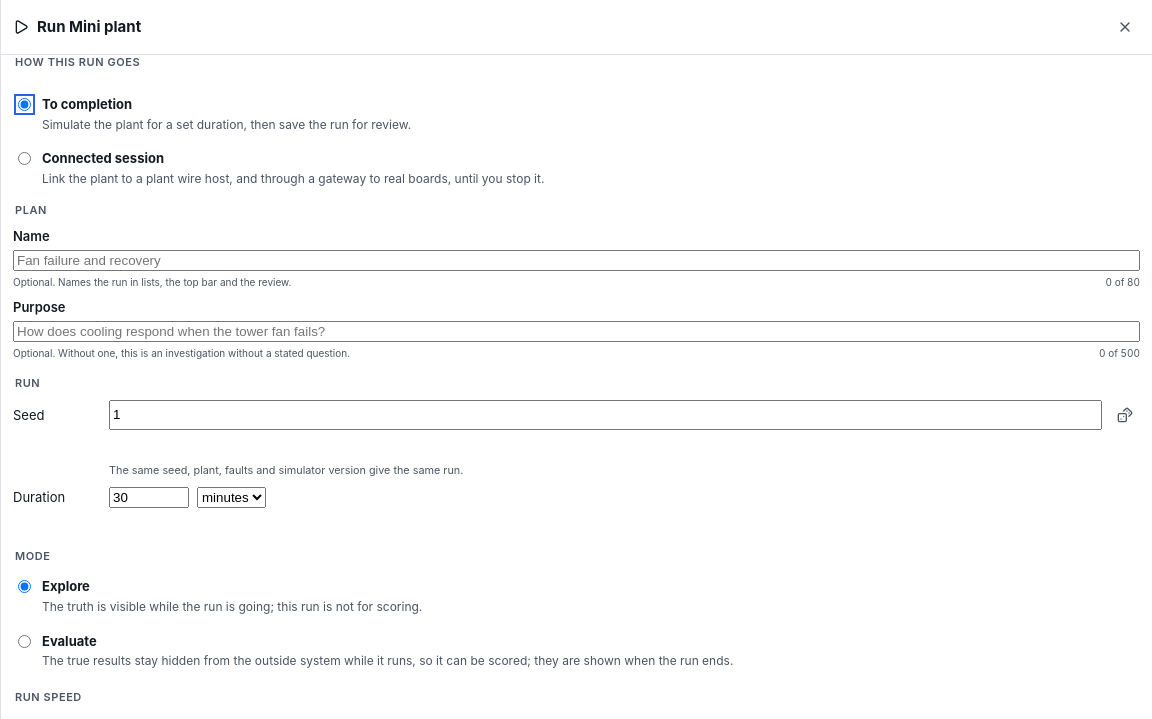
Test: a running connected session in the run panel › picks up a session that is already running when the panel opens after a reload, with its plan
The width and height of the screenshot is (1152, 719).
Step 1. Click the radio button labelled "Connected session" → (24, 159), box 18,152 -> 31,165
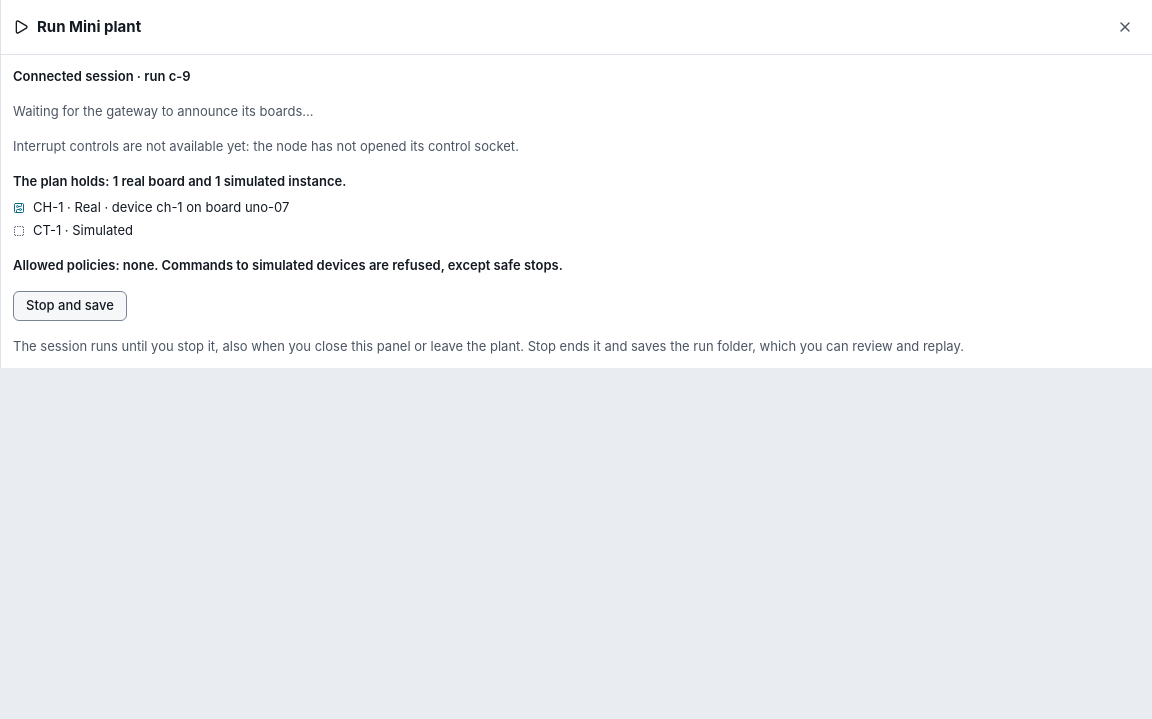
Result: the text "Connected session · run c-9" is shown at 13,68 -> 191,84
Result: the list item "CH-1 · Real · device ch-1 on board uno-07" is shown at 13,199 -> 289,215
Result: the text "Waiting for the gateway to announce its boards…" is shown at 13,103 -> 314,119
